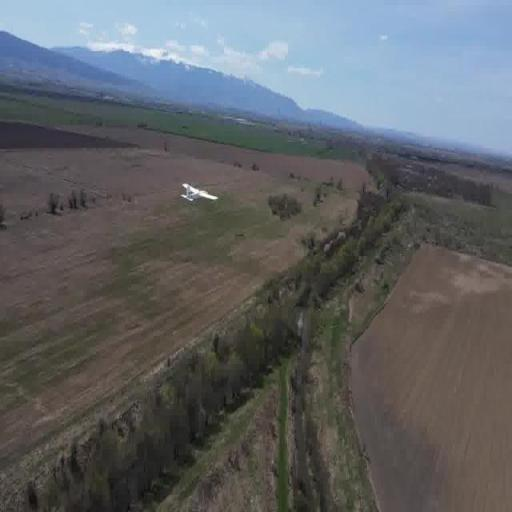uav: (178, 176, 224, 211)
